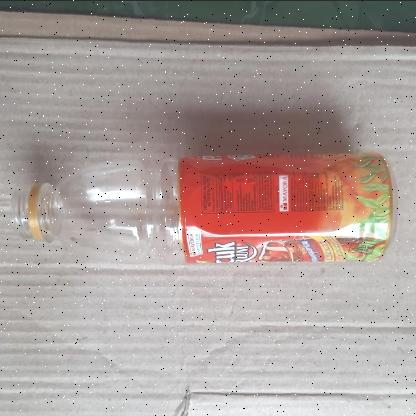Plastic Bottle: (13, 150, 398, 266)
